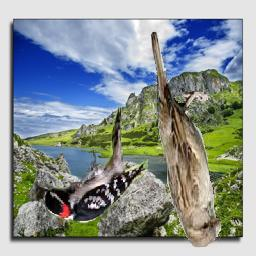Sparrow: (149, 30, 221, 248)
Woodpecker: (38, 104, 149, 225)
